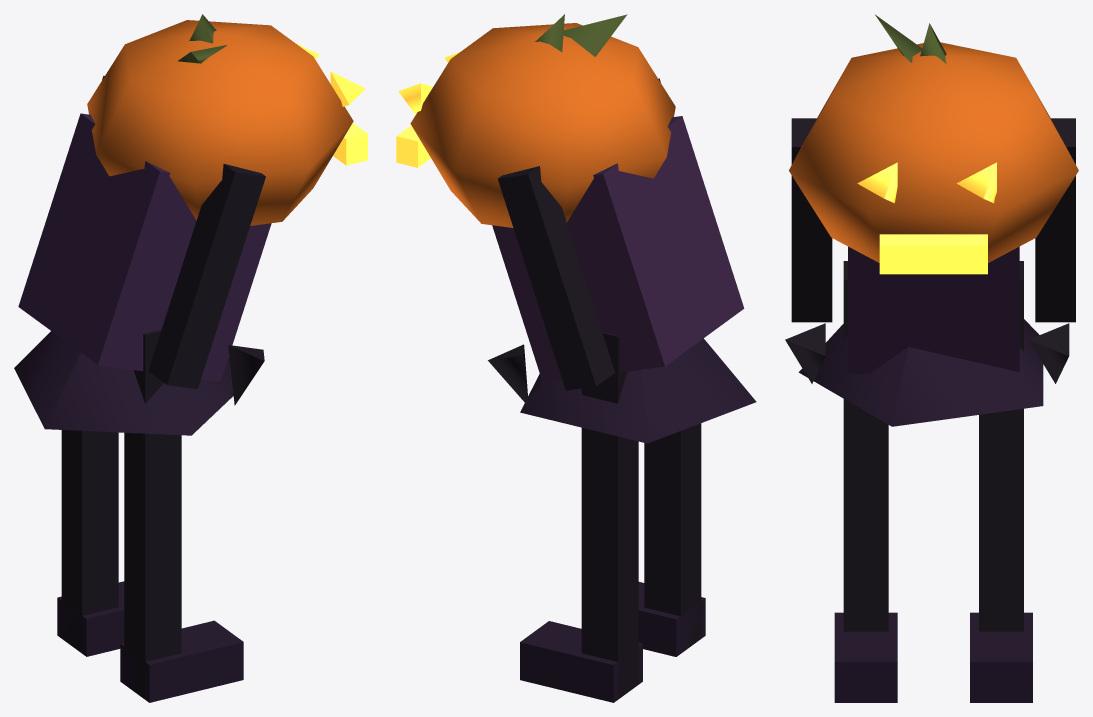
File: enemy_swarm.glb
The picture shows the model from 3 angles, left to right: view 1: azimuth 30°, elevation 25°; view 2: azimuth 150°, elevation 25°; view 3: azimuth 270°, elevation 25°; orthographic projection. The views are drawn at different scales.
Parts seen in each view (by area): view 1: head, torso, leg_l_mesh, loincloth, arm_l_mesh, leg_r_mesh, foot_l, foot_r, claw_l, mouth, eye_l; view 2: head, torso, leg_r_mesh, loincloth, arm_r_mesh, leg_l_mesh, foot_r, foot_l, claw_r, leaf, mouth, eye_r; view 3: head, torso, loincloth, leg_l_mesh, leg_r_mesh, arm_l_mesh, arm_r_mesh, foot_l, foot_r, mouth, claw_r, claw_l (+4 smaller).
Part boxes in pixels (left/top/right/bottom): head: left=87, top=20, right=353, bottom=225; torso: left=18, top=113, right=271, bottom=381; leg_l_mesh: left=124, top=329, right=181, bottom=699; loincloth: left=14, top=331, right=233, bottom=435; arm_l_mesh: left=148, top=164, right=265, bottom=389; leg_r_mesh: left=61, top=430, right=118, bottom=653; foot_l: left=120, top=620, right=243, bottom=702; foot_r: left=57, top=581, right=124, bottom=656; claw_l: left=228, top=345, right=264, bottom=405; mouth: left=333, top=123, right=367, bottom=165; eye_l: left=330, top=71, right=365, bottom=106; head: left=410, top=23, right=675, bottom=227; torso: left=492, top=116, right=744, bottom=381; leg_r_mesh: left=581, top=331, right=638, bottom=699; loincloth: left=520, top=338, right=756, bottom=443; arm_r_mesh: left=498, top=166, right=614, bottom=390; leg_l_mesh: left=644, top=423, right=701, bottom=651; foot_r: left=520, top=621, right=642, bottom=702; foot_l: left=638, top=582, right=705, bottom=656; claw_r: left=488, top=344, right=528, bottom=406; leaf: left=563, top=14, right=627, bottom=56; mouth: left=396, top=125, right=430, bottom=167; eye_r: left=398, top=83, right=432, bottom=114; head: left=789, top=42, right=1078, bottom=262; torso: left=848, top=246, right=1019, bottom=373; loincloth: left=798, top=319, right=1043, bottom=426; leg_l_mesh: left=843, top=261, right=888, bottom=631; leg_r_mesh: left=979, top=261, right=1023, bottom=631; arm_l_mesh: left=791, top=118, right=832, bottom=322; arm_r_mesh: left=1035, top=118, right=1075, bottom=322; foot_l: left=834, top=612, right=897, bottom=702; foot_r: left=970, top=612, right=1032, bottom=702; mouth: left=879, top=234, right=987, bottom=274; claw_r: left=1029, top=323, right=1069, bottom=383; claw_l: left=785, top=323, right=825, bottom=383.
Size of the model in its own units: 0.0875 by 0.1667 by 0.0652.
